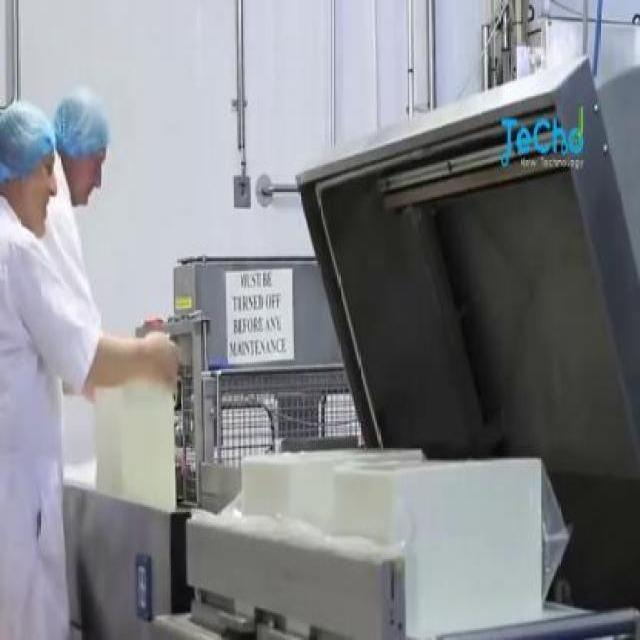bare_hand: (139, 327, 188, 399)
